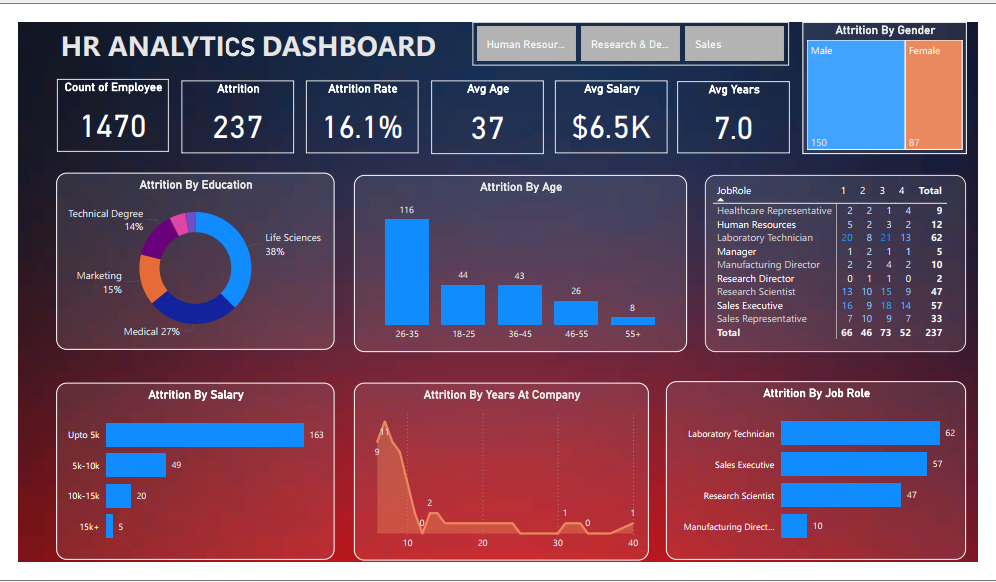

What the dashboard file says about the page in this screenshot:
{"tool":"powerbi","page":{"name":"Page 1","canvas":[1280,720],"ordinal":0},"visuals":[{"type":"card","title":"Count of Employee","fields":{"Values":["Count(HR_Analytics.EmpID)"]},"box":[51.6,76.3,149.3,96.4],"z":0},{"type":"card","title":"Attrition","fields":{"Values":["Sum(HR_Analytics.AttritionCount)"]},"box":[218.5,77.5,149.6,97.6],"z":1000},{"type":"card","title":"Attrition Rate","fields":{"Values":["HR_Analytics.AttritionRate"]},"box":[384.4,77.5,149.6,97.6],"z":2000},{"type":"card","title":"Avg Age","fields":{"Values":["Avg(HR_Analytics.Age)"]},"box":[551.4,78.1,149.6,97.6],"z":3000},{"type":"card","title":"Avg Salary","fields":{"Values":["Avg(HR_Analytics.MonthlyIncome)"]},"box":[716.2,77.5,149.6,97.6],"z":4000},{"type":"card","title":"Avg Years","fields":{"Values":["Avg(HR_Analytics.YearsAtCompany)"]},"box":[878.9,79.2,149.6,96],"z":5000},{"type":"donutChart","title":"Attrition By Education","fields":{"Category":["HR_Analytics.EducationField"],"Y":["Sum(HR_Analytics.AttritionCount)"]},"box":[51,201.1,370.9,235.8],"z":6000},{"type":"columnChart","title":"Attrition By Age","fields":{"Category":["HR_Analytics.AgeGroup"],"Y":["Sum(HR_Analytics.AttritionCount)"]},"box":[447.8,204.4,444,235.8],"z":7000},{"type":"pivotTable","fields":{"Rows":["HR_Analytics.JobRole"],"Columns":["HR_Analytics.JobSatisfaction","HR_Analytics.JobLevel"],"Values":["Sum(HR_Analytics.AttritionCount)"]},"box":[916.3,204.4,348.1,235.8],"z":8000},{"type":"barChart","title":"Attrition By Salary","fields":{"Category":["HR_Analytics.SalarySlab"],"Y":["Sum(HR_Analytics.AttritionCount)"]},"box":[51,480.9,370.9,235.8],"z":9000},{"type":"barChart","title":"Attrition By Job Role","fields":{"Category":["HR_Analytics.JobRole"],"Y":["Sum(HR_Analytics.AttritionCount)"]},"box":[864.2,479.3,400.1,237.5],"z":10000},{"type":"areaChart","title":"Attrition By Years At Company","fields":{"Category":["HR_Analytics.YearsAtCompany"],"Y":["Sum(HR_Analytics.AttritionCount)"]},"box":[447.8,480.9,393.6,237.5],"z":11000},{"type":"treemap","title":"Attrition By Gender","fields":{"Values":["Sum(HR_Analytics.AttritionCount)"],"Group":["HR_Analytics.Gender"]},"box":[1045.9,0,219.6,175.7],"z":12000},{"type":"advancedSlicerVisual","fields":{"Values":["HR_Analytics.Department"]},"box":[606,0,422,58],"z":13000},{"type":"textbox","box":[52,0,541.6,58.6],"z":14000}]}

Visuals, with their boxes in screenshot pixels (x1, y1, x2, y2):
"Count of Employee" card: detection(77, 77, 188, 149)
"Attrition" card: detection(201, 78, 311, 150)
"Attrition Rate" card: detection(323, 78, 434, 150)
"Avg Age" card: detection(447, 79, 558, 151)
"Avg Salary" card: detection(569, 78, 680, 150)
"Avg Years" card: detection(689, 79, 800, 150)
"Attrition By Education" donutChart: detection(77, 170, 351, 344)
"Attrition By Age" columnChart: detection(370, 172, 699, 347)
pivotTable - HR_Analytics.JobRole x HR_Analytics.JobSatisfaction: detection(717, 172, 975, 347)
"Attrition By Salary" barChart: detection(77, 377, 351, 551)
"Attrition By Job Role" barChart: detection(679, 376, 975, 551)
"Attrition By Years At Company" areaChart: detection(370, 377, 662, 552)
"Attrition By Gender" treemap: detection(813, 21, 976, 151)
advancedSlicerVisual - HR_Analytics.Department: detection(487, 21, 800, 64)
textbox: detection(77, 21, 478, 64)
